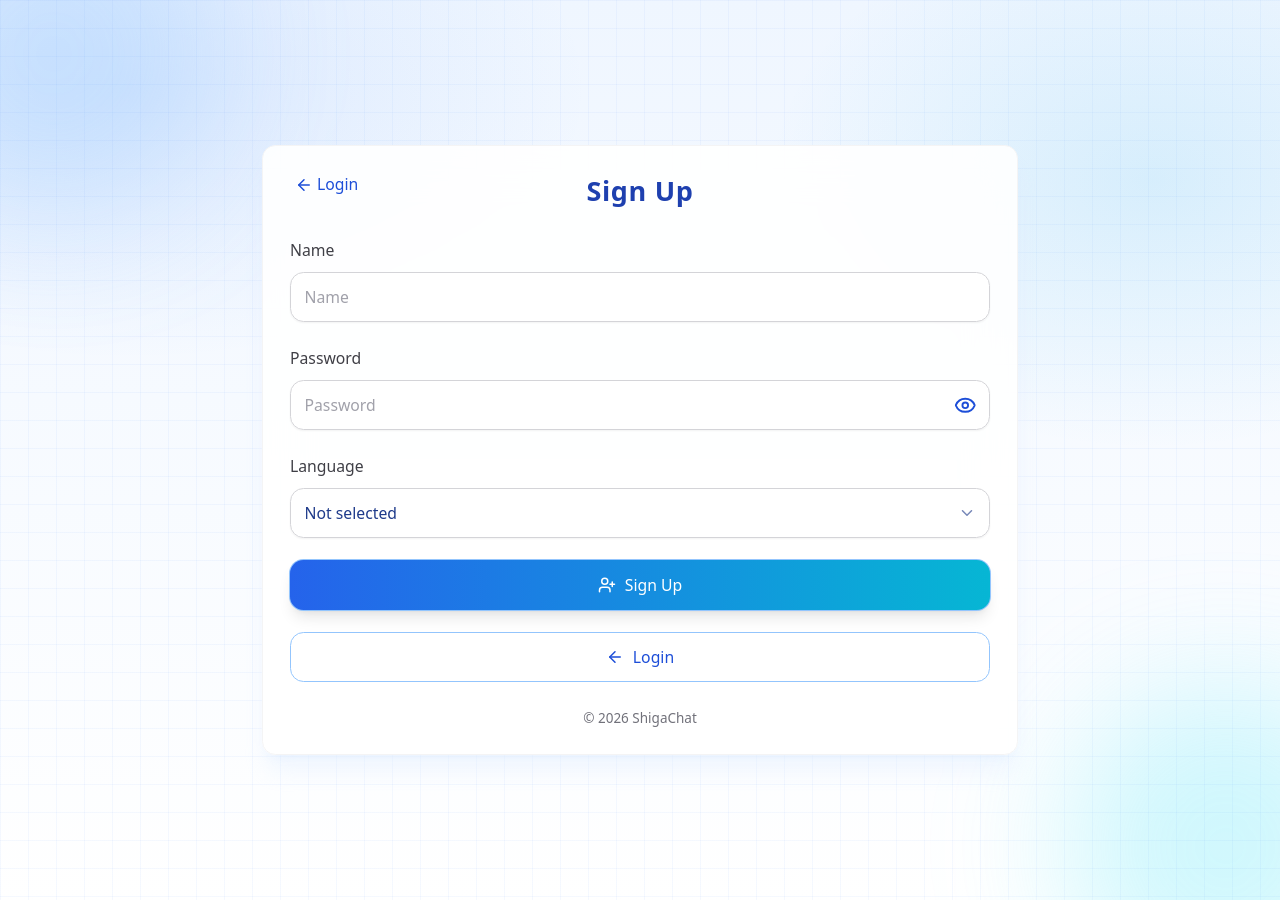
Test: the registration language control exposes its label and validation error
The image size is (1280, 900).
Type "mobile-user" into the field labelled "Name".
click(640, 297); type("mobile-user")  # box [290,272,990,322]
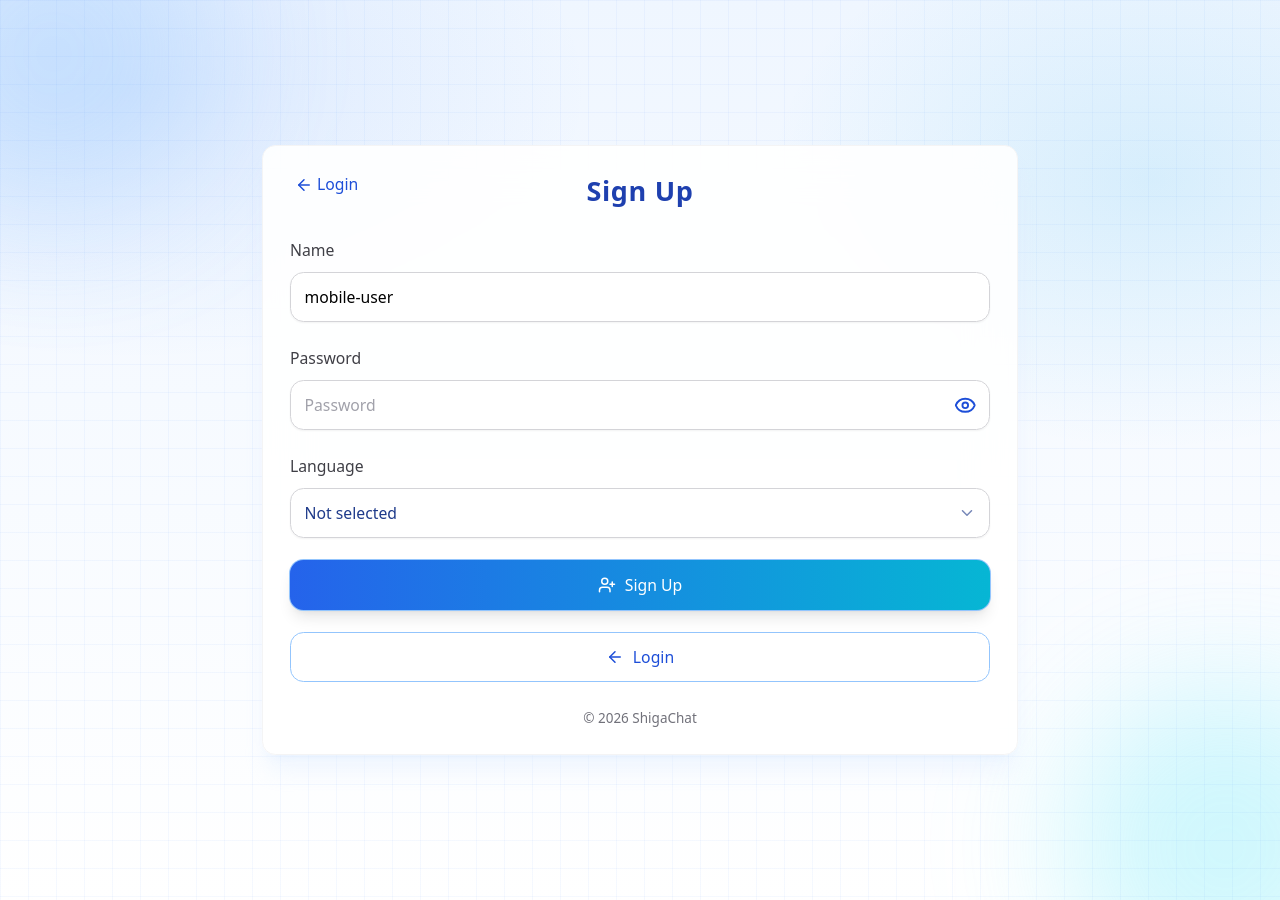
Type "password123" into the password field labelled "Password".
click(640, 405); type("password123")  # box [290,380,990,430]
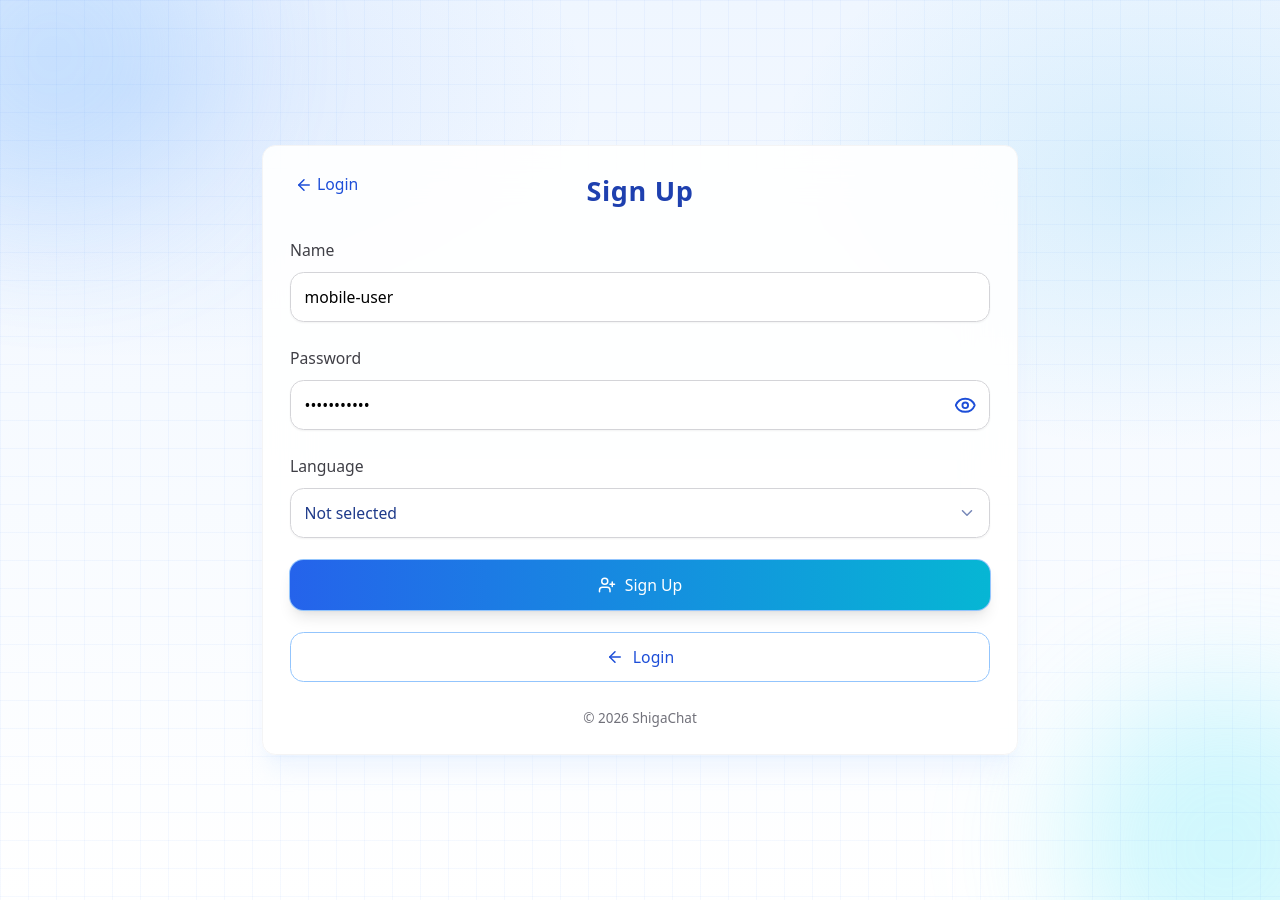
Submit the form "Sign Up", box [290,236,990,682]
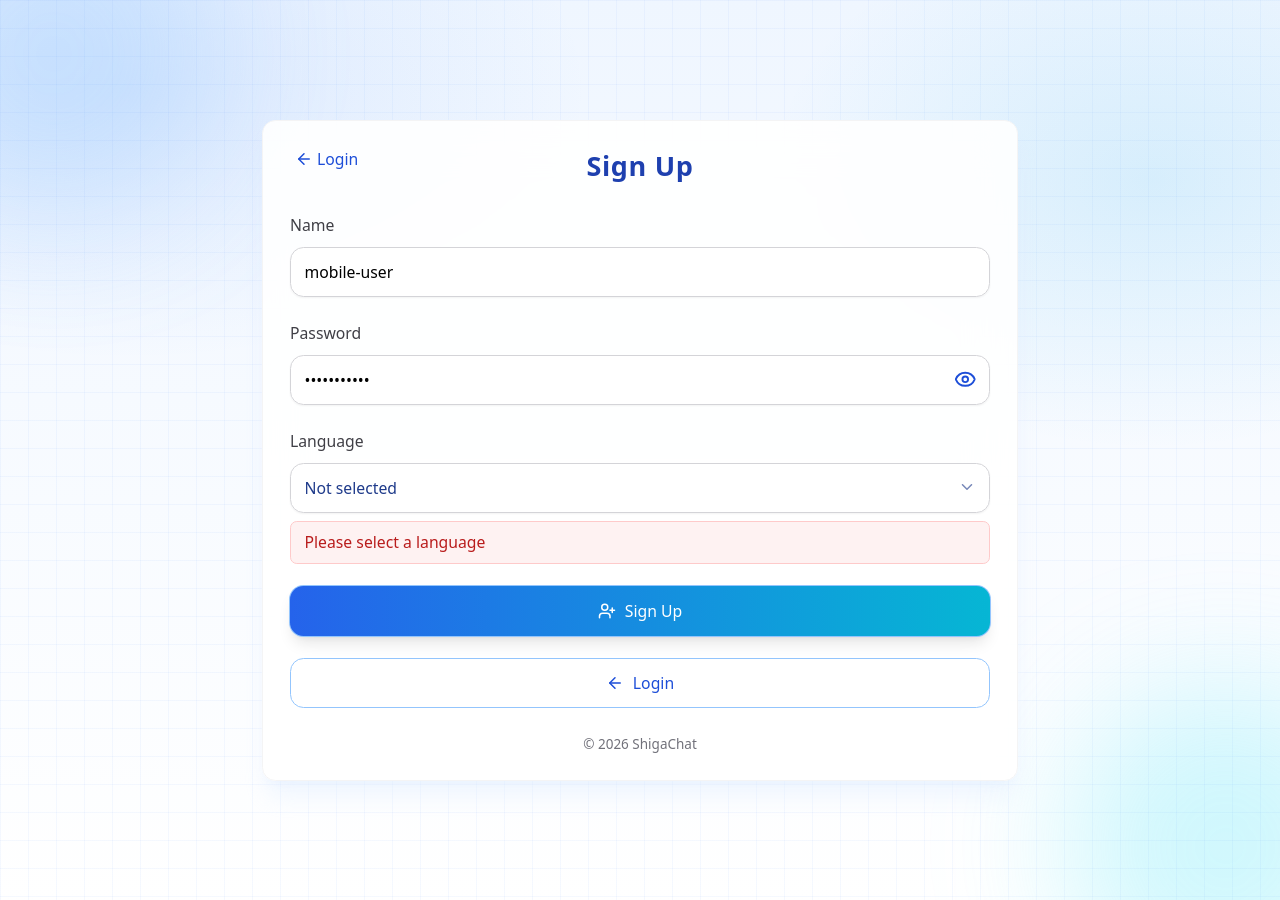
Check: the message reads "Please select a language", box [304,531,485,553]
